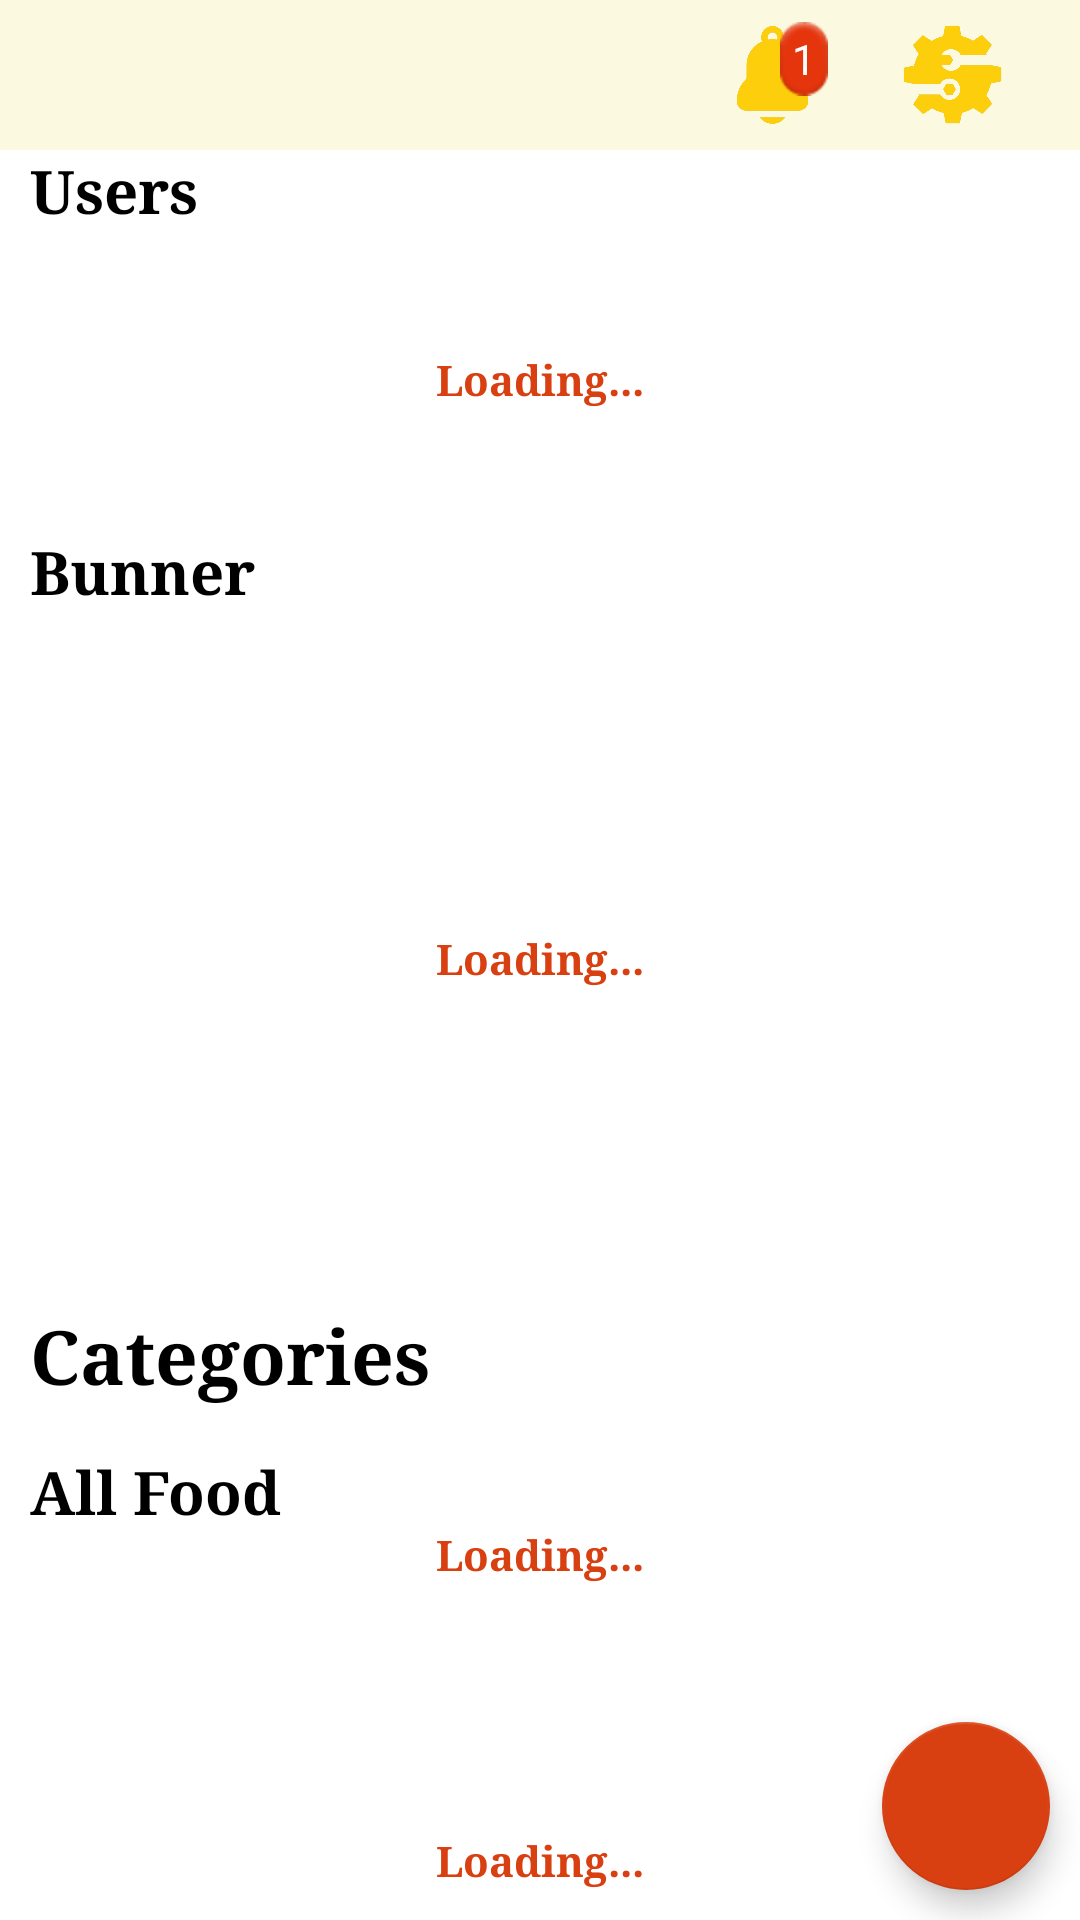

Point at icon controls on the screen. Image size 1080px×1920px, points as (x=x, y=y).
notification: (x=782, y=73)
